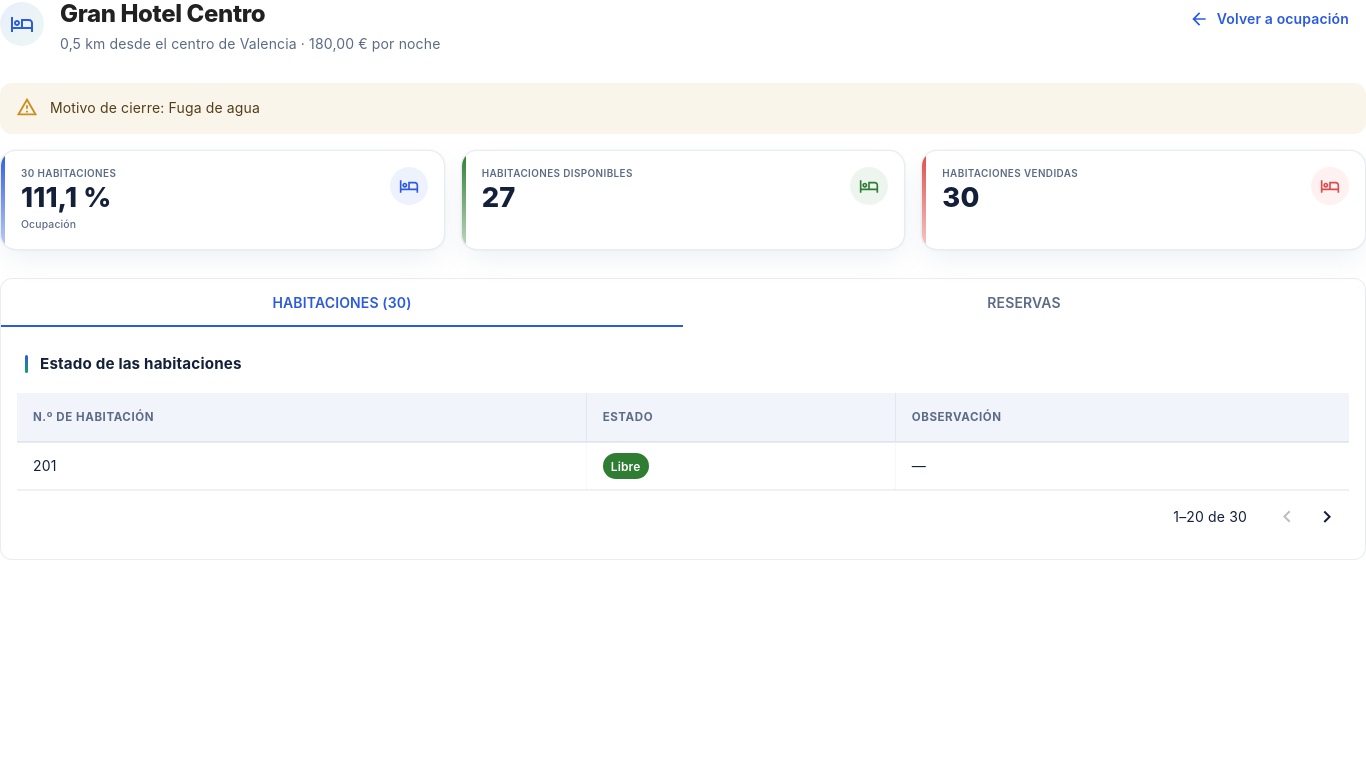
Test case: pantallas de ocupación y reubicación › admin puede abrir el formulario de reserva desde el hotel
Expected: the heading "Gran Hotel Centro" is shown, [60, 0, 265, 28]
Click the tab "Reservas".
click(1024, 303)  # box [683, 279, 1365, 327]
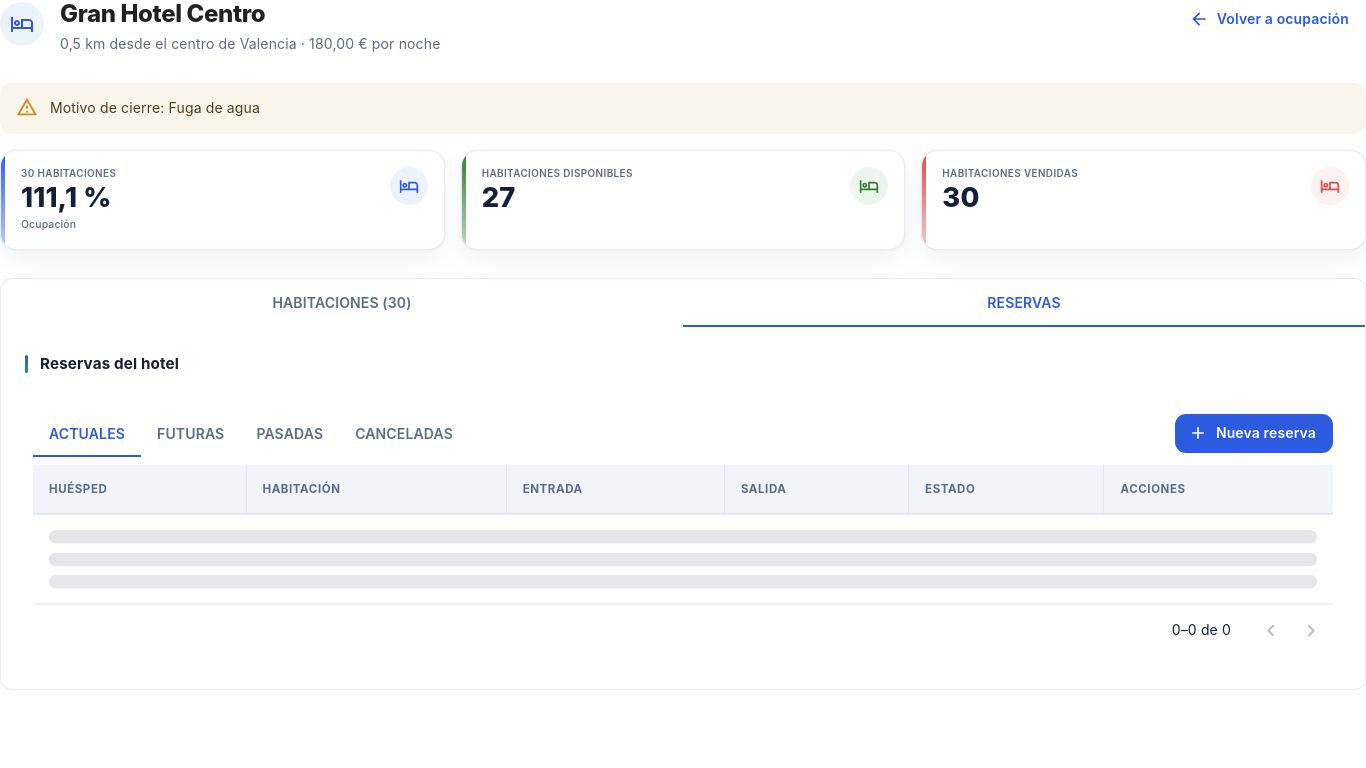
Click the button "Nueva reserva".
click(1254, 433)  # box [1175, 414, 1333, 453]
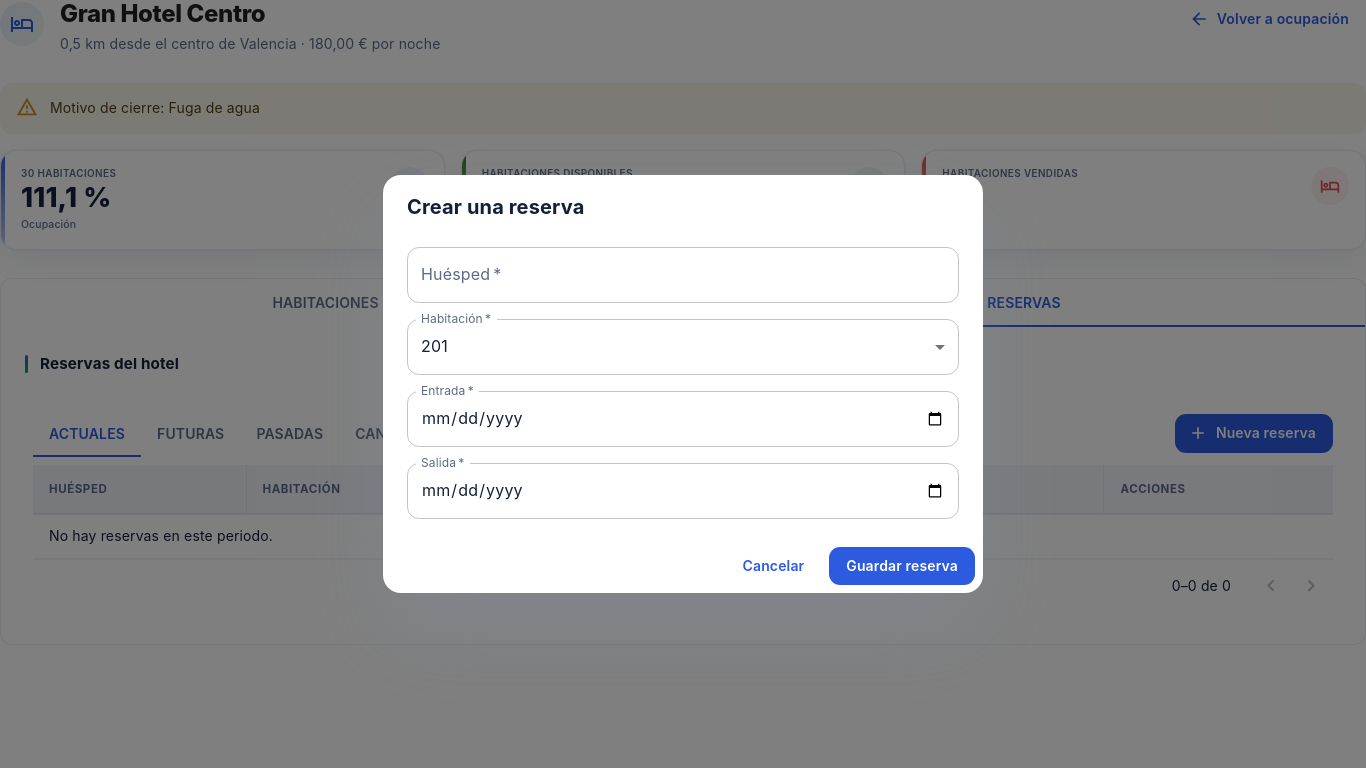
Result: the heading "Crear una reserva" is shown at [407, 195, 584, 219]
